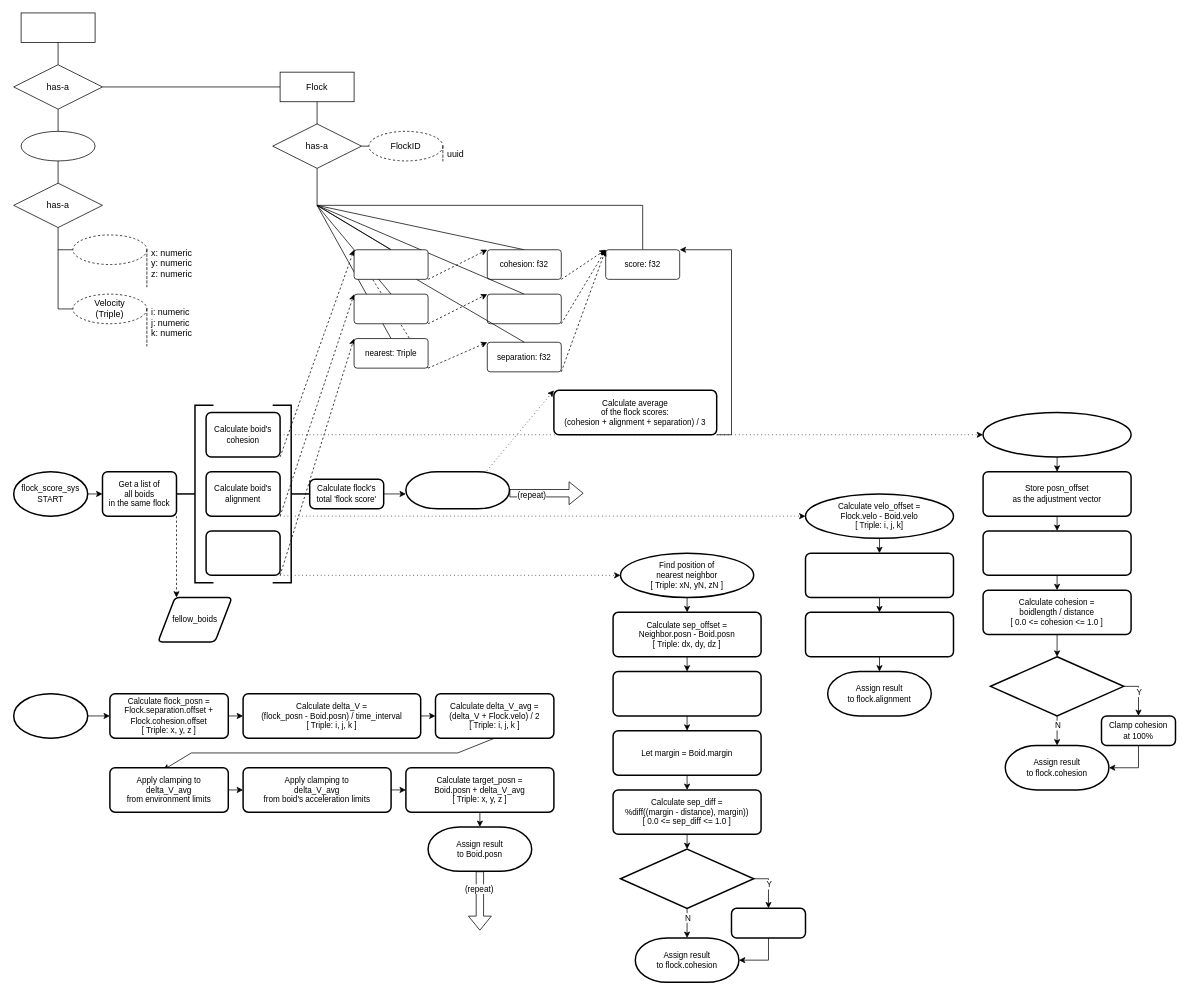
The diagram is 1188 pixels wide and 996 high, and some of its shapes have lost their labels. Each missing label, with the box of its shape:
alignment: f32: (487, 293, 561, 324)
avg_posn: Triple: (353, 249, 428, 279)
avg_velo: Triple: (353, 293, 428, 324)
Boid: (20, 12, 95, 43)
Calculate alignment = abs(%diff(Boid.velo, Flock.velo)): (804, 611, 954, 657)
Calculate boid's separation: (205, 530, 280, 576)
Calculate distance = len(posn_offset) [ 0 <= distance ]: (982, 530, 1131, 576)
Calculate posn_offset = Flock.posn - Boid.posn [ Triple: x, y, z ]: (982, 411, 1131, 457)
Clamp sep_diff at 100%: (730, 907, 806, 938)
Corpus: (20, 131, 95, 161)
flight_action_sys START: (13, 693, 88, 739)
Is cohesion > 100%? (coh > 1.0 ?): (989, 656, 1124, 716)
Is sep_diff > 100%? (s_d > 1.0 ?): (619, 848, 754, 909)
Position (Triple): (72, 234, 147, 265)
Set the score value in the big-brain::Scorer: (405, 471, 510, 509)
Store sep_offset as the adjustment vector: (612, 670, 761, 716)
Store velo_offset as the adjustment vector: (804, 552, 954, 598)
